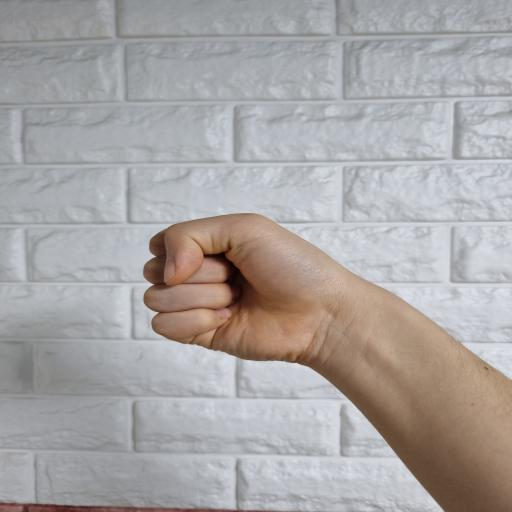Rock: (143, 213, 365, 365)
